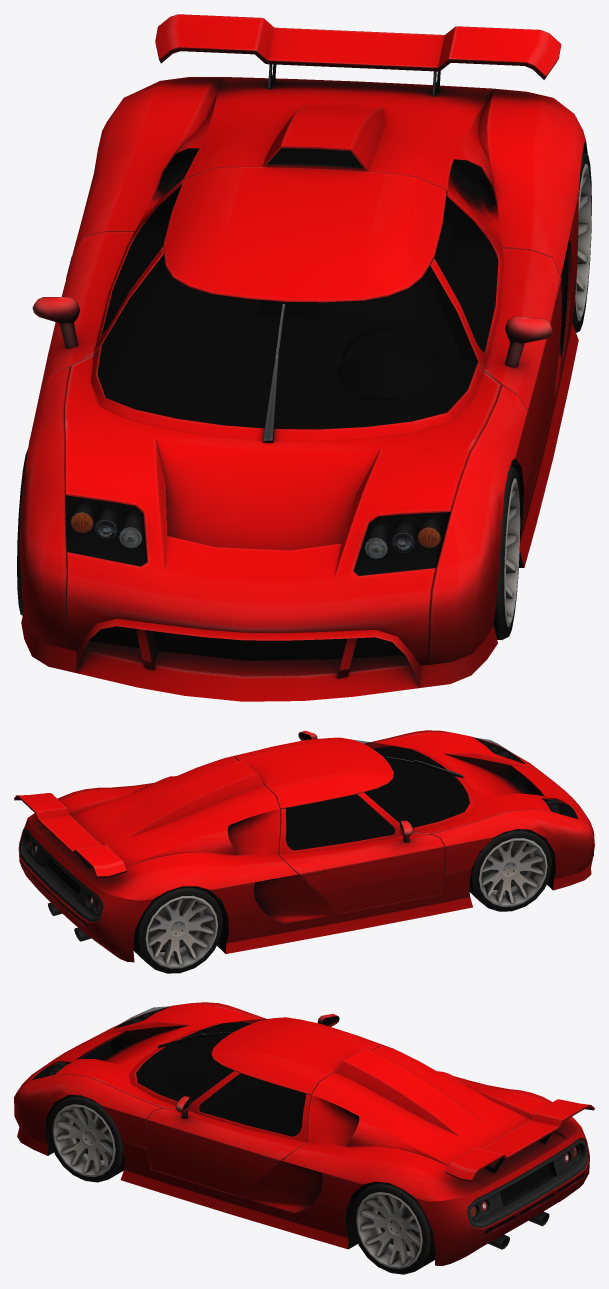
File: racing_car.glb
3 renders of one model, top to bottom at view 1: azimuth 30°, elevation 25°; view 2: azimuth 150°, elevation 25°; view 3: azimuth 270°, elevation 25°, orthographic. The views are drawn at different scales.
Parts seen in each view (by area): view 1: Sport body, Wheel_H, Wheel_H001; view 2: Sport body, Wheel_H003, Wheel_H002; view 3: Sport body, Wheel_H001, Wheel_H.
Boxes of the visible parts, <box> form: Sport body: <box>19,14,587,701</box>; Wheel_H: <box>493,465,520,639</box>; Wheel_H001: <box>572,151,591,332</box>; Sport body: <box>14,730,594,962</box>; Wheel_H003: <box>133,886,222,973</box>; Wheel_H002: <box>469,829,552,911</box>; Sport body: <box>14,1002,594,1265</box>; Wheel_H001: <box>352,1182,435,1274</box>; Wheel_H: <box>48,1095,124,1182</box>.
Size of the model in its own units: 3.28 by 1.04 by 3.79.
Materials: 4 (3 with a texture image).
